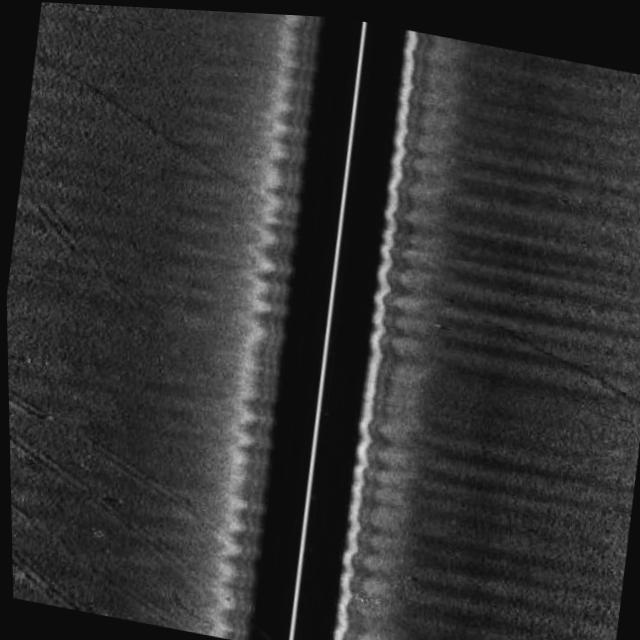mine: (428, 316, 452, 328)
